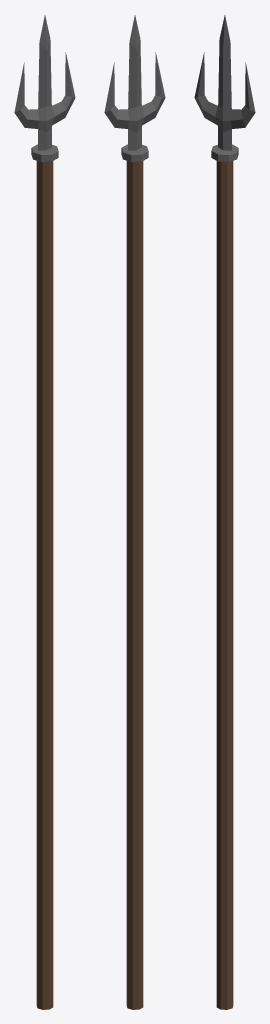
Rendered from Spear_2.fbx.
3 renders of one model, left to right at view 1: azimuth 30°, elevation 25°; view 2: azimuth 210°, elevation 25°; view 3: azimuth 330°, elevation 25°, orthographic.
Parts seen in each view (by area): view 1: pCylinder7, pCube11; view 2: pCylinder7, pCube11; view 3: pCylinder7, pCube11.
Boxes of the visible parts, x1,y1,x2,y2 form: pCylinder7: (31,144,58,1009); pCube11: (14,15,75,150); pCylinder7: (121,144,148,1009); pCube11: (104,15,165,150); pCylinder7: (211,144,238,1009); pCube11: (194,15,255,150).
Bounding box in the file's own units: 0.6741 × 10.46 × 0.2679.
